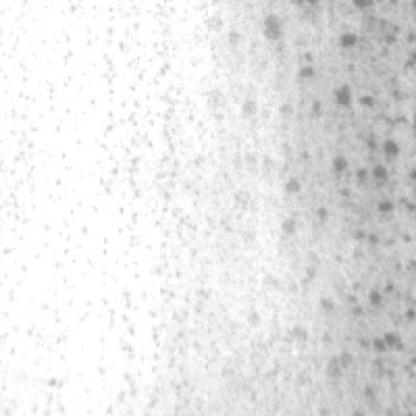pitted_surface: (85, 0, 254, 408), (268, 0, 416, 410)
